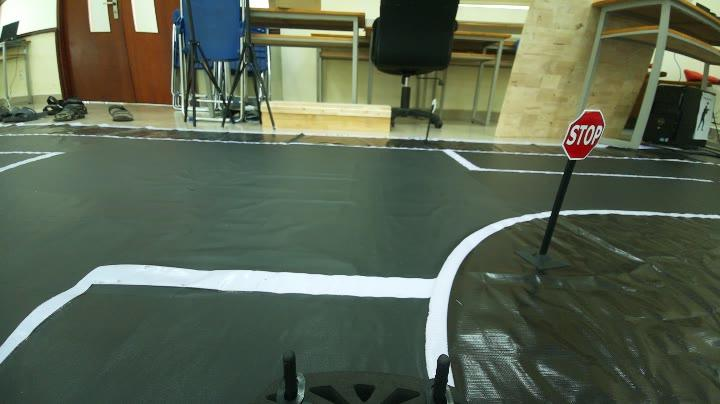stop: (556, 100, 609, 164)
